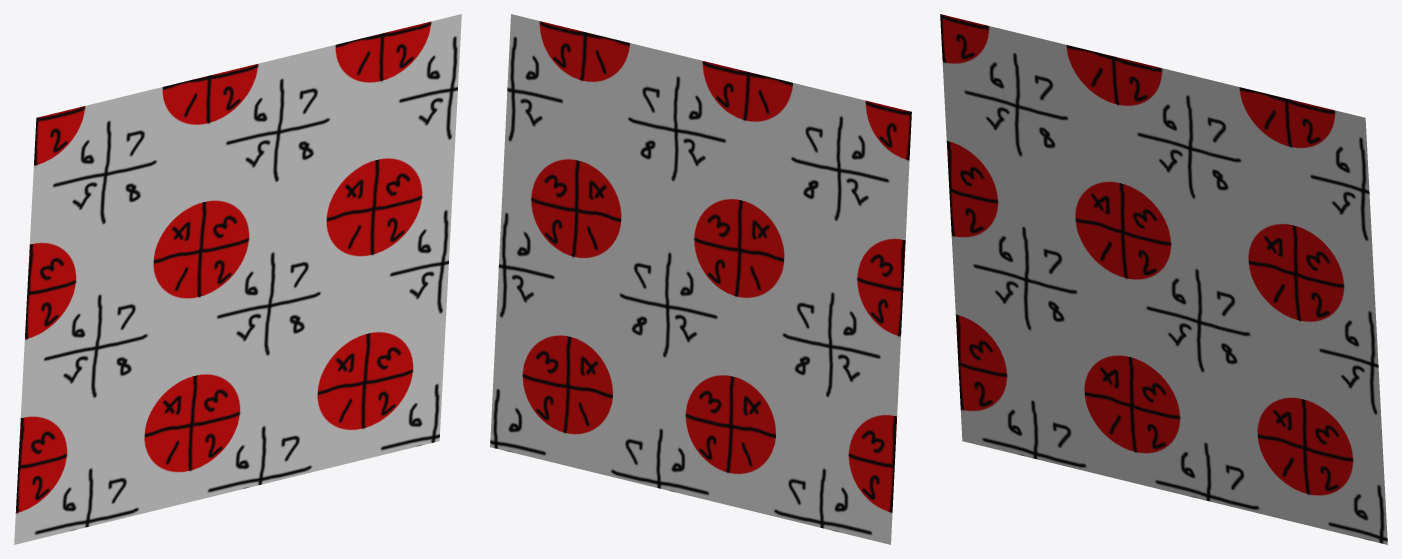
Rendered from Ball2.fbx.
3 renders of one model, left to right at view 1: azimuth 30°, elevation 25°; view 2: azimuth 150°, elevation 25°; view 3: azimuth 330°, elevation 25°, orthographic. The views are drawn at different scales.
Parts seen in each view (by area): view 1: pPlane1; view 2: pPlane1; view 3: pPlane1.
Part boxes in pixels (<box>): pPlane1: <box>14,14,461,544</box>; pPlane1: <box>490,14,911,544</box>; pPlane1: <box>940,14,1387,544</box>.
Bounding box in the file's own units: 1.01 × 1.01 × 0.0918.
1 material, 1 textured.
